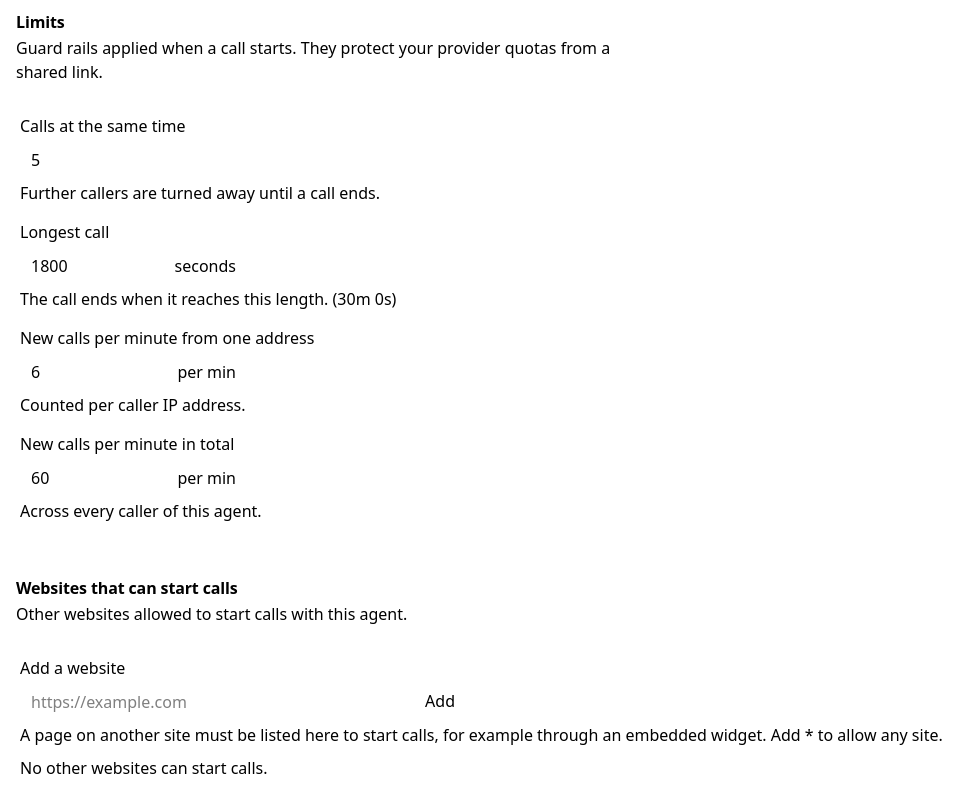
Test: LimitsSection › edits the limits and shows field errors
The image size is (959, 804).
Expected: the text "The call ends when it reaches this length. (30m 0s)" is shown, [20, 288, 396, 310]
Replace the text in the number field labelled "Calls at the same time" with "0" at (132, 160), box [20, 142, 244, 178]
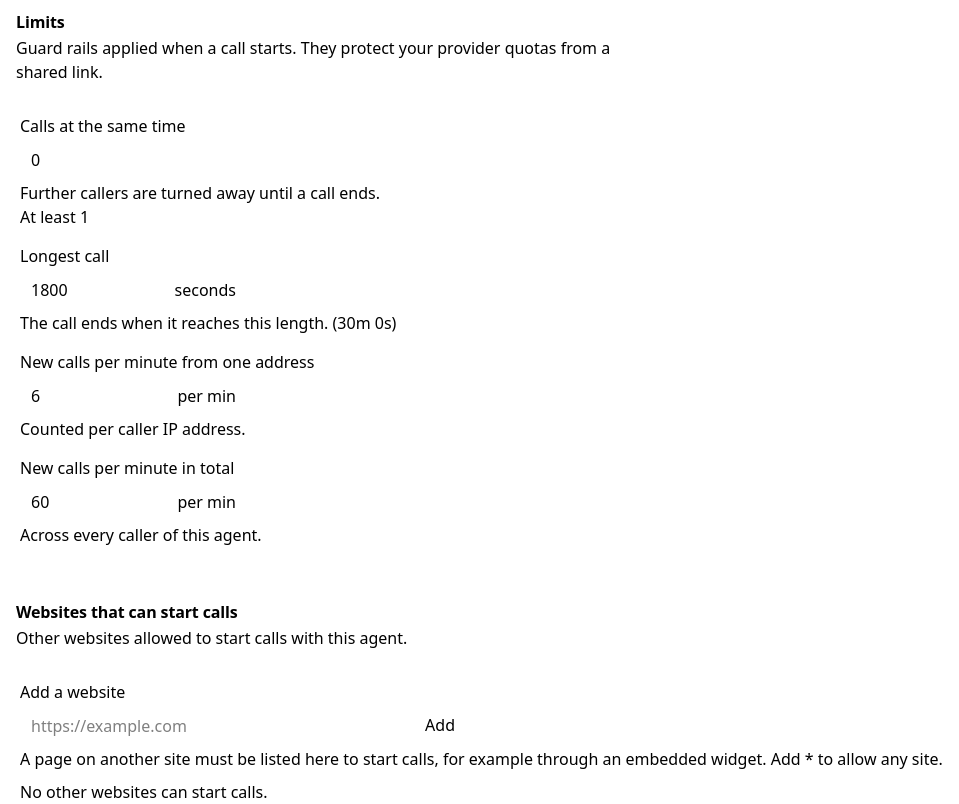
Expected: the text "At least 1" is shown, [20, 206, 89, 228]
Replace the text in the number field labelled "Calls at the same time" with "3" at (132, 160), box [20, 142, 244, 178]
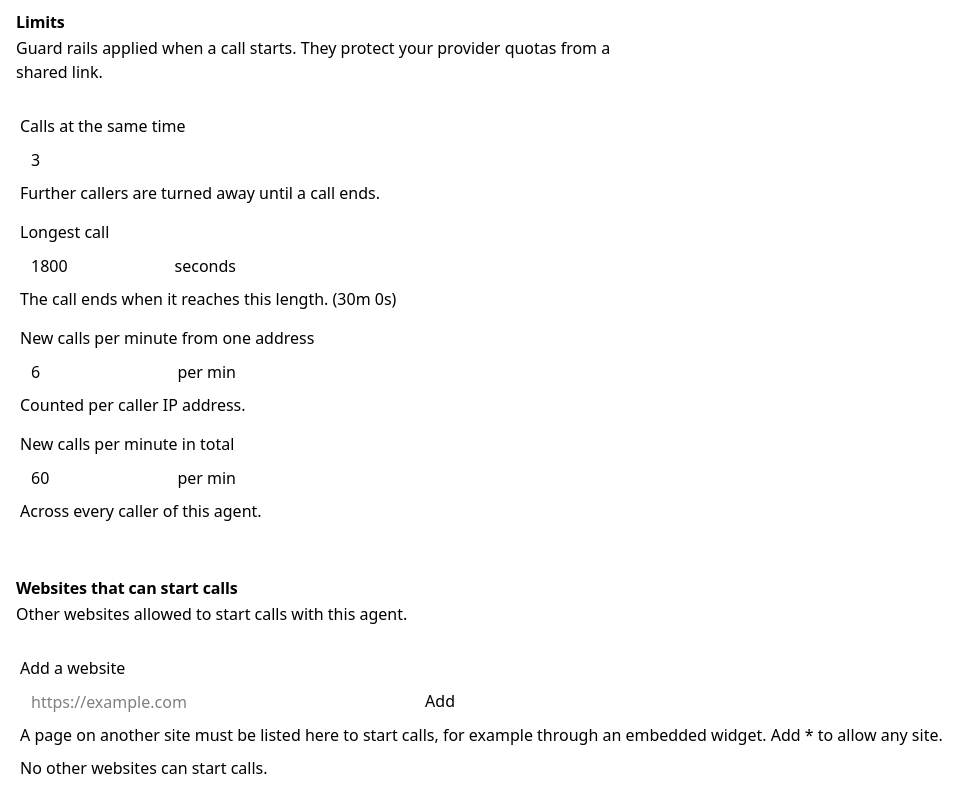
Expected: the text "At least 1" is gone
